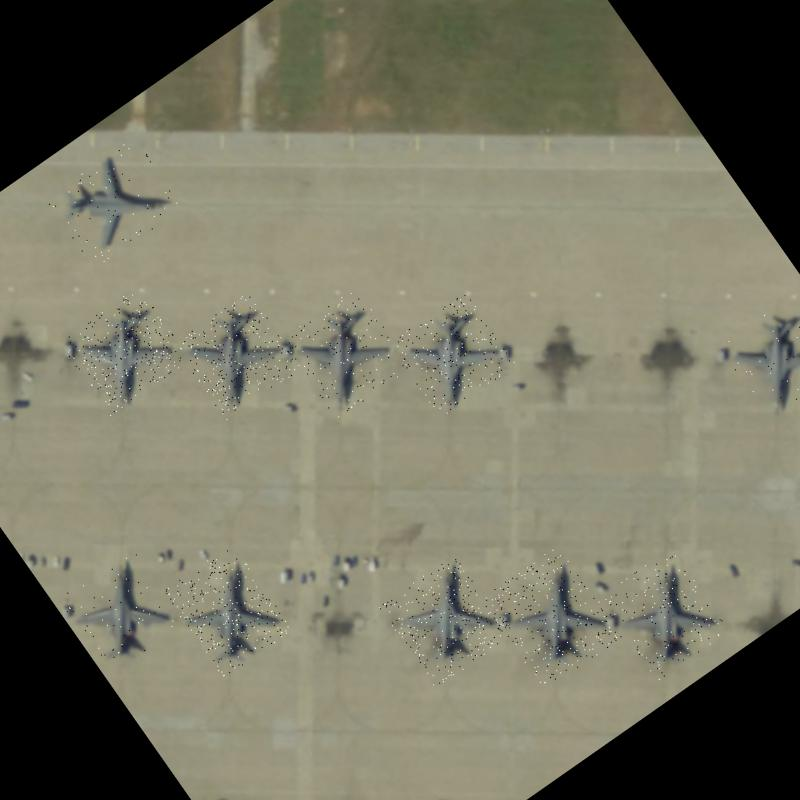A10: (481, 545, 623, 692), (44, 135, 185, 270), (597, 547, 730, 683), (378, 554, 512, 688), (280, 286, 412, 420), (163, 543, 293, 678), (59, 285, 191, 416), (173, 291, 303, 421), (57, 546, 185, 676), (388, 290, 516, 418), (717, 296, 800, 419)
